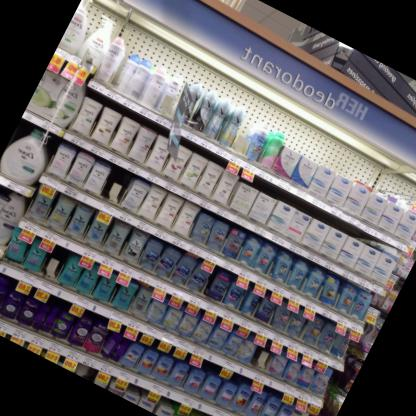empty_space: (97, 168, 131, 209), (38, 245, 68, 283), (248, 346, 273, 377)
